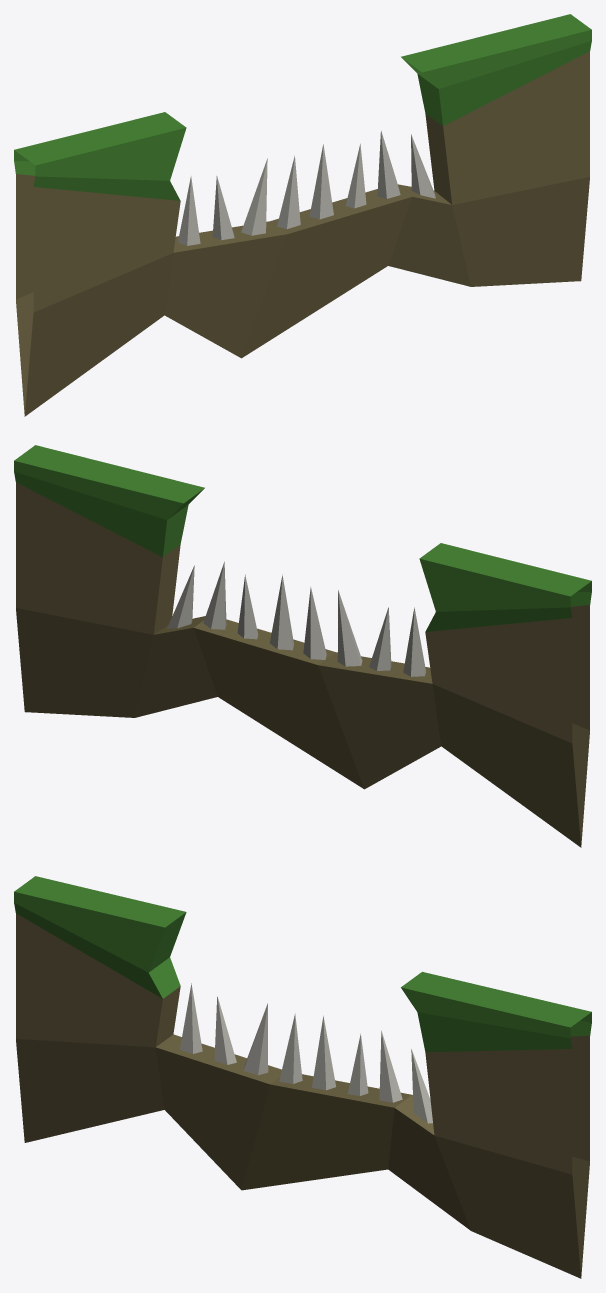
Rendered from GroundAndSpikesSmall.fbx.
3 renders of one model, top to bottom at view 1: azimuth 30°, elevation 25°; view 2: azimuth 150°, elevation 25°; view 3: azimuth 330°, elevation 25°, orthographic.
Parts seen in each view (by area): view 1: Grass, Spikes; view 2: Grass, Spikes; view 3: Grass, Spikes.
Part boxes in pixels (box(x1,y1,x2,y2)): Grass: box(14, 14, 591, 416); Spikes: box(178, 130, 435, 245); Grass: box(14, 445, 591, 847); Spikes: box(167, 561, 425, 676); Grass: box(14, 876, 591, 1278); Spikes: box(180, 983, 432, 1123).
Size of the model in its own units: 18.09 by 8.08 by 1.21.
